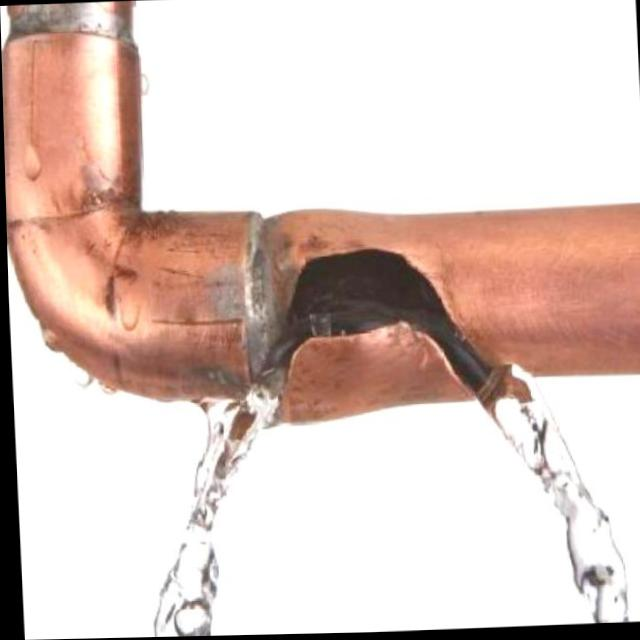leak: (155, 249, 628, 637)
